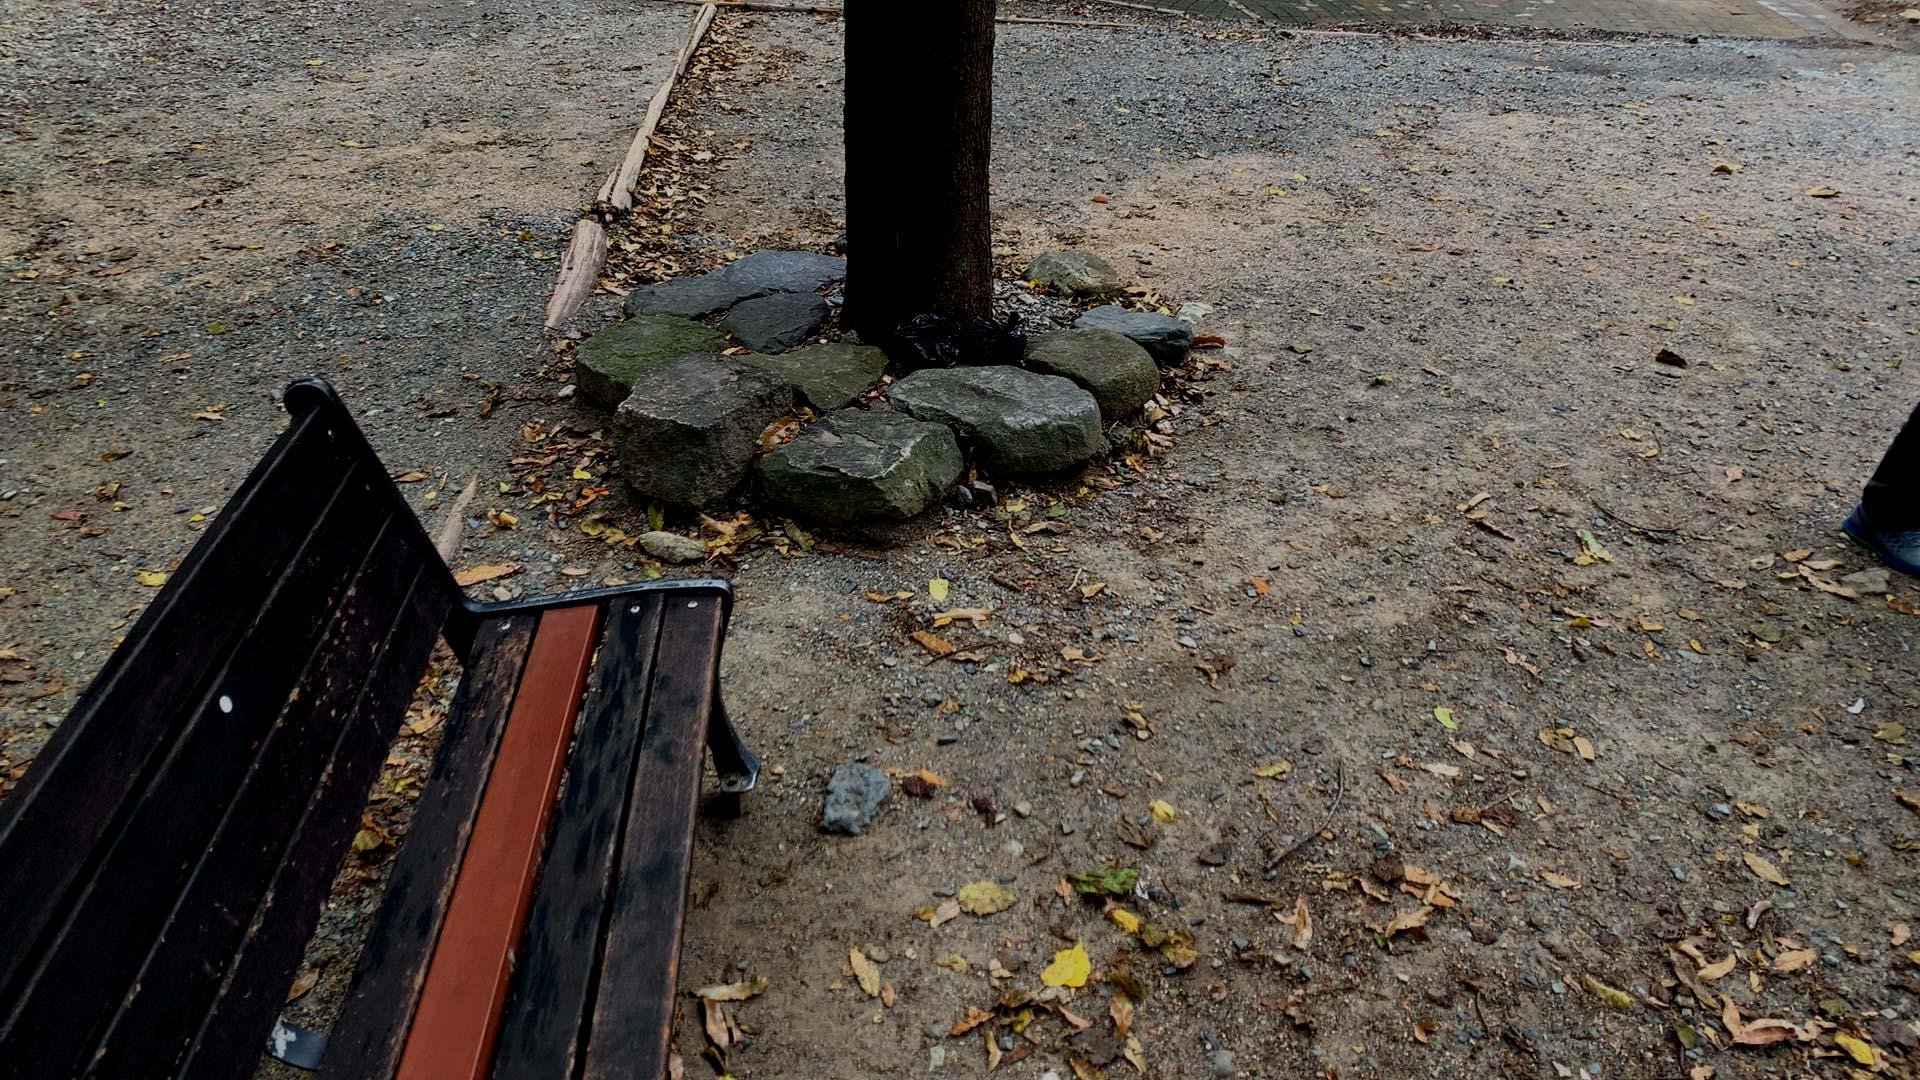black_bag: (876, 303, 965, 371), (957, 309, 1033, 368)
